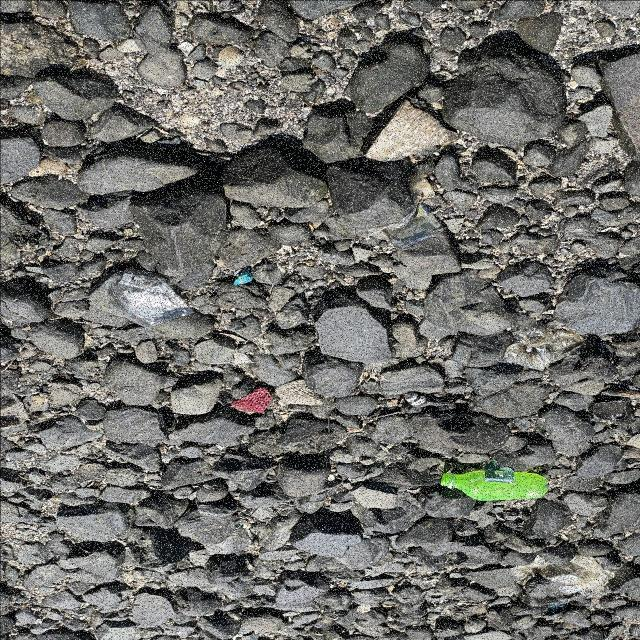plastic_waste: (109, 272, 198, 329), (441, 470, 552, 503), (382, 204, 442, 250)
